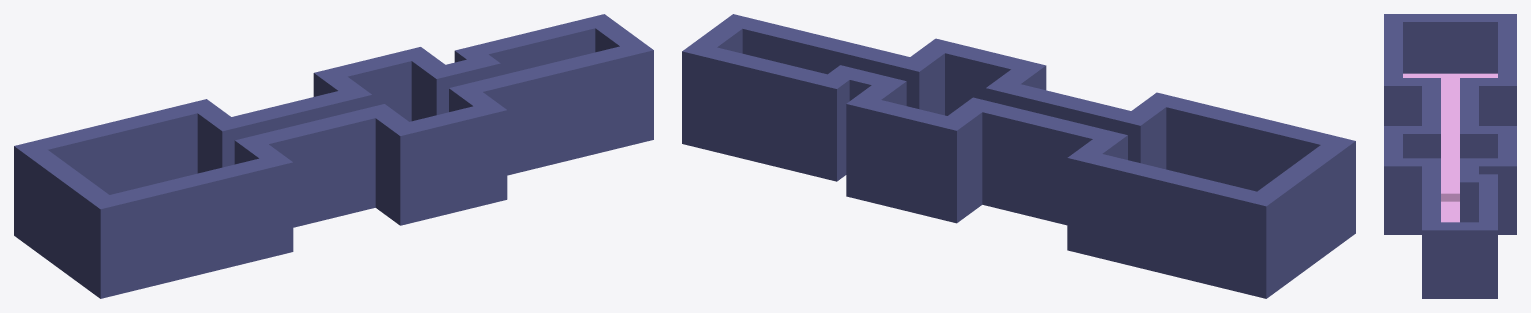
File: export-to-godot.dae
The picture shows the model from 3 angles, left to right: view 1: azimuth 30°, elevation 25°; view 2: azimuth 150°, elevation 25°; view 3: azimuth 270°, elevation 25°; orthographic projection. The views are drawn at different scales.
Visible parts, largest first — view 1: Extrusion; view 2: Extrusion; view 3: Extrusion, Brep.
Boxes of the visible parts, left/top/right/bottom form: Extrusion: left=14, top=14, right=653, bottom=298; Extrusion: left=682, top=14, right=1355, bottom=298; Extrusion: left=1384, top=14, right=1516, bottom=298; Brep: left=1403, top=73, right=1497, bottom=222.
Size of the model in its own units: 27 by 7 by 4.
